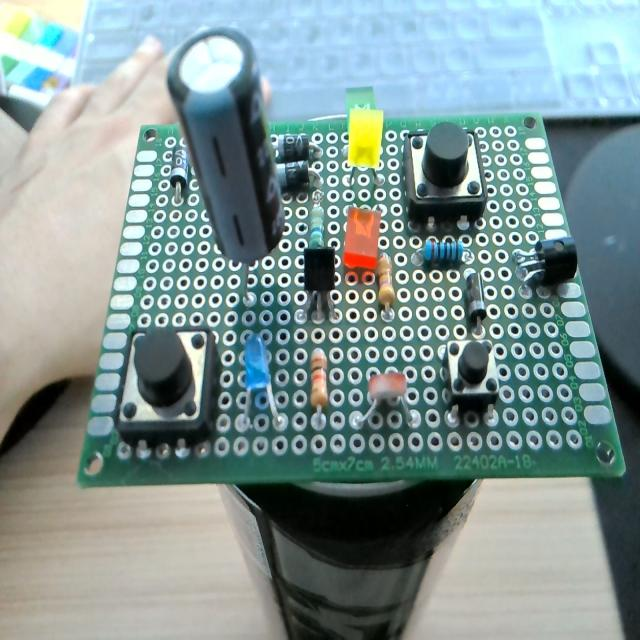Electrolytic capacitor: (167, 29, 289, 300)
cds: (352, 370, 418, 430)
diode: (464, 270, 486, 326), (273, 133, 310, 163), (276, 160, 307, 193), (170, 146, 188, 202)
led: (239, 332, 285, 432), (342, 206, 382, 270), (347, 108, 384, 167)
resistor: (310, 349, 330, 429), (420, 237, 467, 265), (375, 252, 395, 312), (310, 205, 324, 248)
switch: (114, 323, 219, 447), (404, 123, 488, 228), (442, 339, 499, 416)
transistor: (512, 235, 580, 288), (303, 246, 337, 292)
